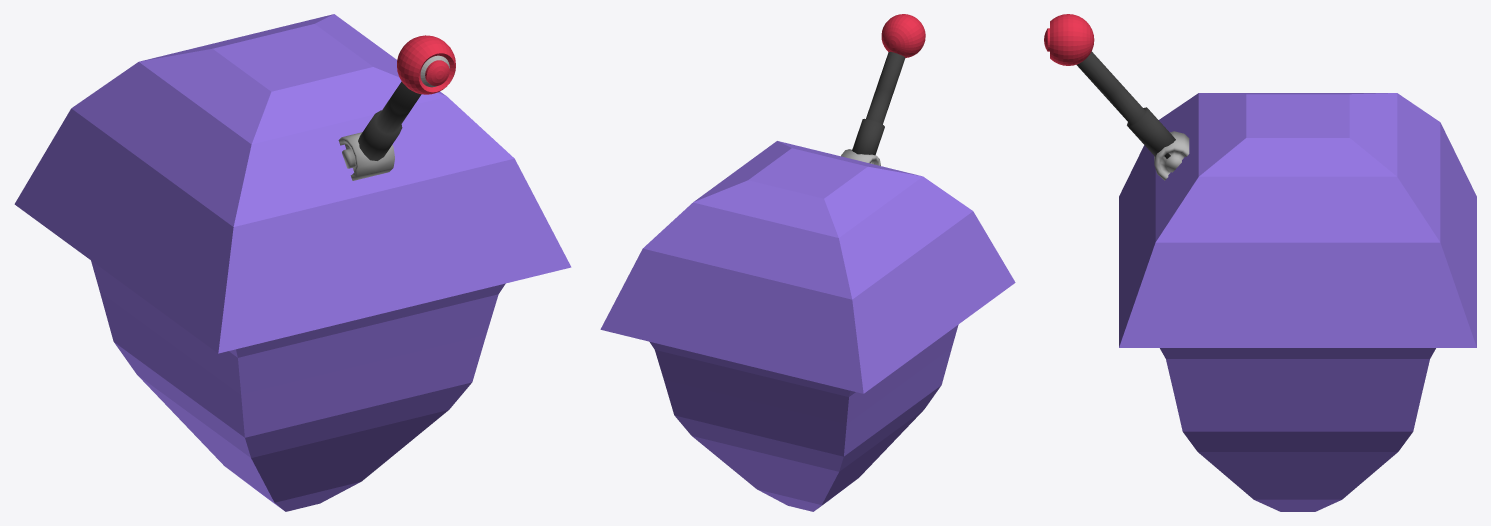
Rendered from BaseBody.fbx.
3 renders of one model, left to right at view 1: azimuth 30°, elevation 25°; view 2: azimuth 150°, elevation 25°; view 3: azimuth 270°, elevation 25°, orthographic. The views are drawn at different scales.
Visible parts, largest first — view 1: 球体; view 2: 球体; view 3: 球体.
Part boxes in pixels (left/top/right/bottom): 球体: left=14, top=14, right=571, bottom=511; 球体: left=600, top=14, right=1015, bottom=511; 球体: left=1044, top=14, right=1476, bottom=511.
Size of the model in its own units: 2.24 by 3.38 by 2.71.
